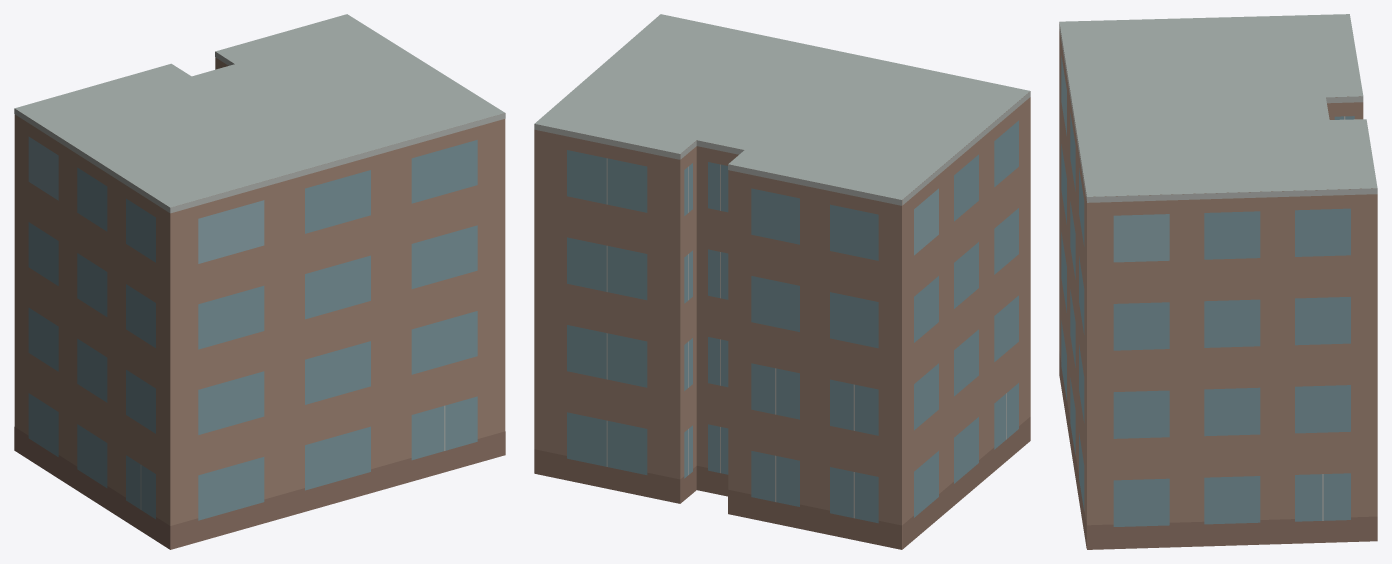
The model's file is survey-upis-32744655.glb.
3 views of the same model, side by side, from view 1: azimuth 30°, elevation 25°; view 2: azimuth 150°, elevation 25°; view 3: azimuth 270°, elevation 25° (orthographic). The views are drawn at different scales.
Parts seen in each view (by area): view 1: survey-upis-32744655.tmp; view 2: survey-upis-32744655.tmp; view 3: survey-upis-32744655.tmp.
Part boxes in pixels (bbox=[...]): survey-upis-32744655.tmp: bbox=[14, 14, 505, 549]; survey-upis-32744655.tmp: bbox=[534, 14, 1030, 549]; survey-upis-32744655.tmp: bbox=[1059, 14, 1377, 549].
Bounding box in the file's own units: 16.24 × 14.6 × 11.94.
